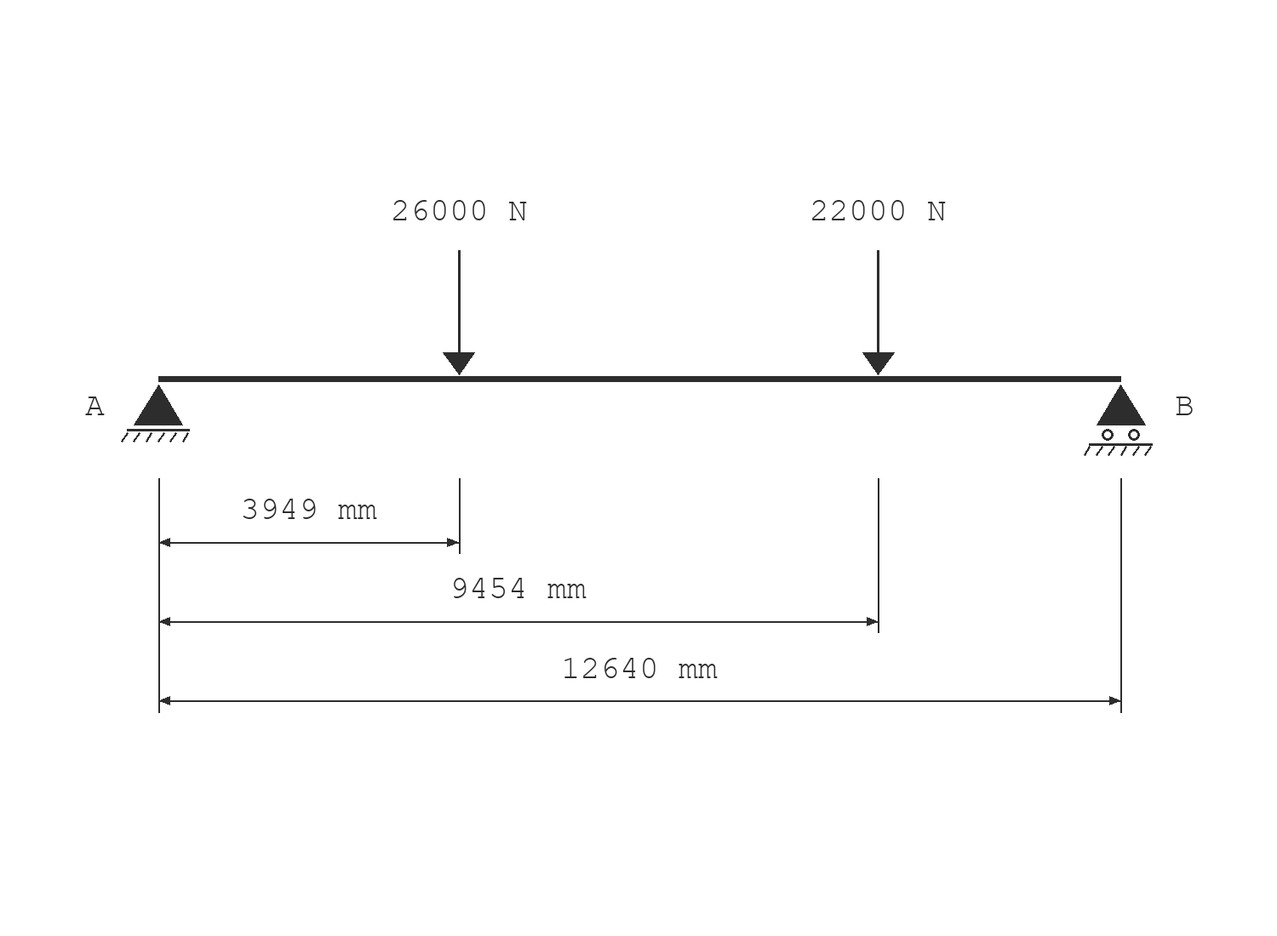pin_support: (121, 385, 190, 442)
point_load: (862, 250, 895, 375), (443, 250, 475, 375)
roller_support: (1084, 385, 1153, 456)
